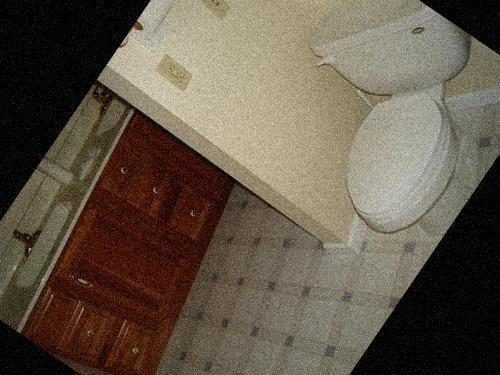Lavamanos: (0, 179, 94, 305), (74, 46, 159, 144)
